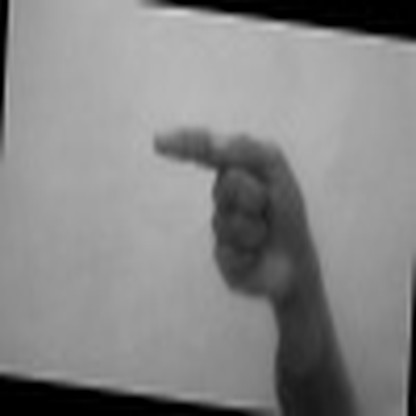g: (135, 108, 338, 297)
